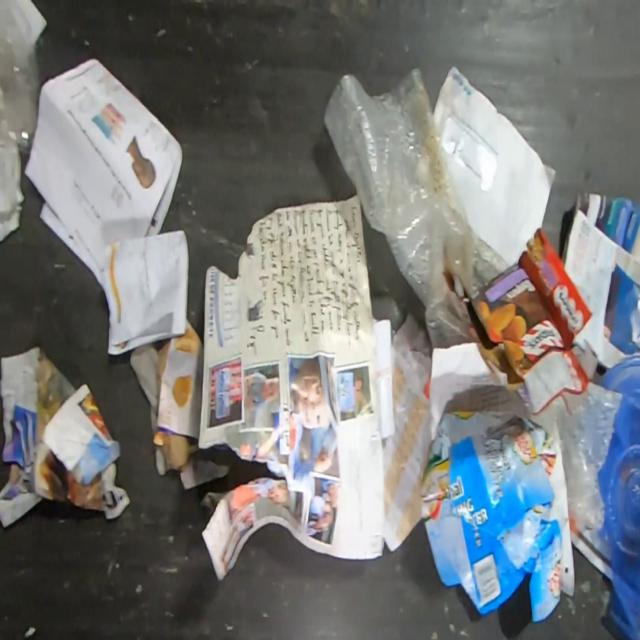cardboard: (419, 412, 562, 624), (445, 225, 593, 414), (562, 192, 640, 370)
rigid_plastic: (596, 355, 640, 639), (0, 0, 41, 154)
soft_plastic: (322, 70, 508, 346), (551, 380, 624, 537)
